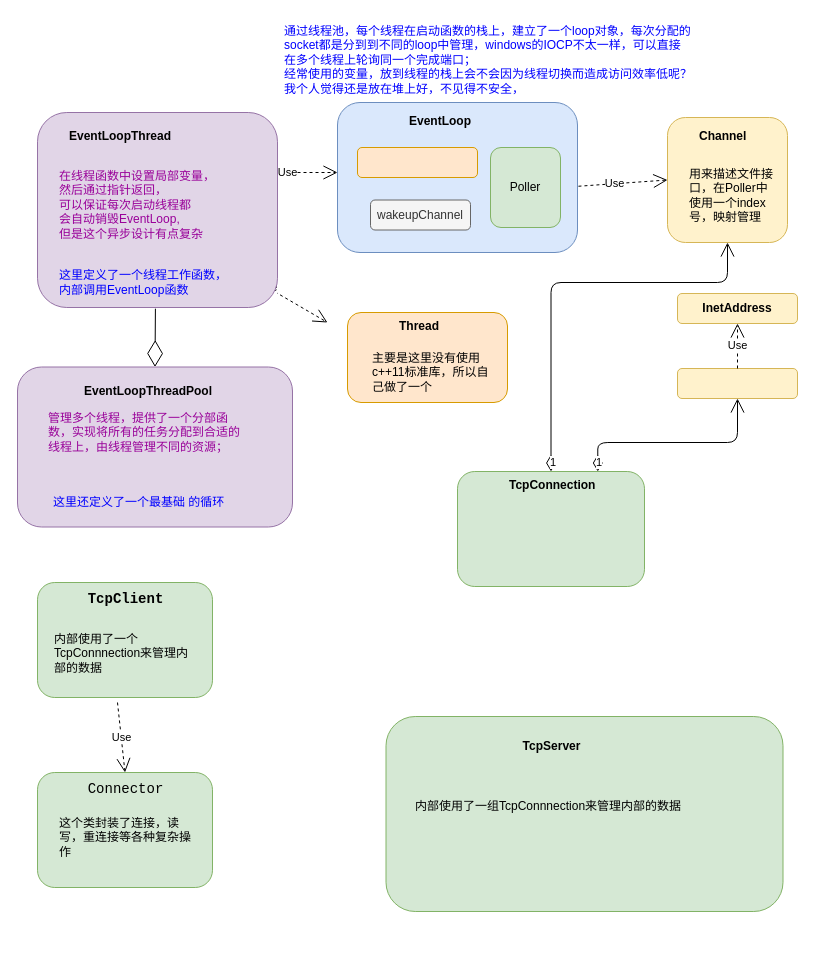
Image size: 815x956. Some labels were removed from this diagram. Each missing label, with the centre of its shape:
"ChannelList" goes at pixel 417 162.
"Socket" goes at pixel 737 383.
